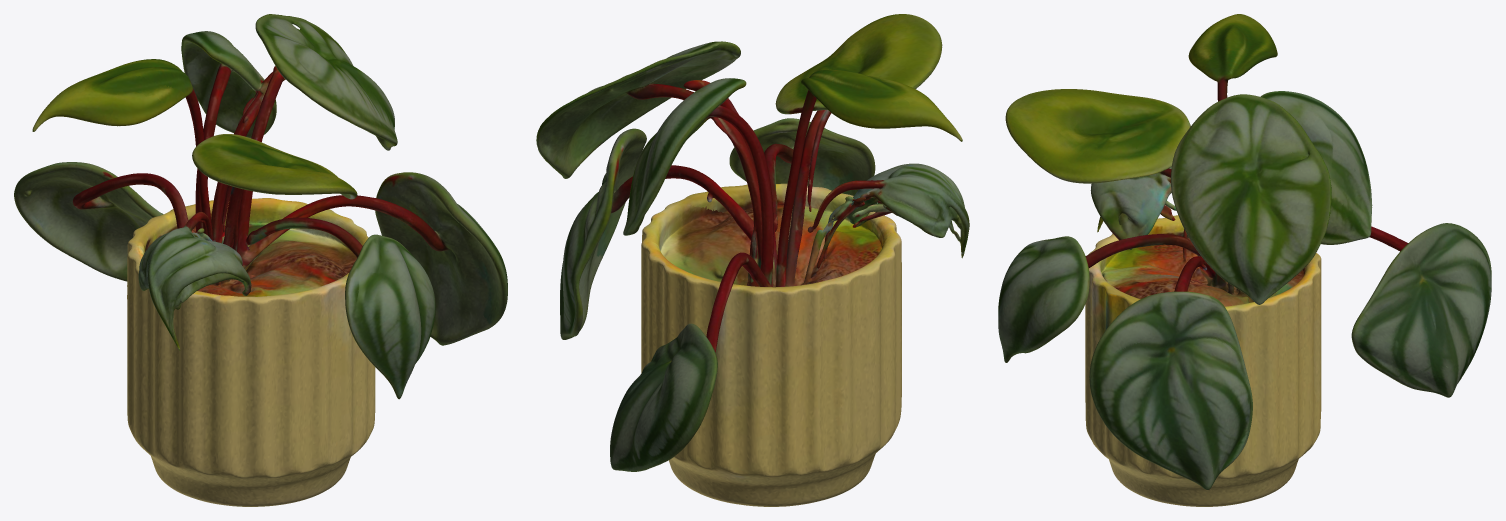
3 renders of one model, left to right at view 1: azimuth 30°, elevation 25°; view 2: azimuth 150°, elevation 25°; view 3: azimuth 270°, elevation 25°, orthographic. The views are drawn at different scales.
Parts seen in each view (by area): view 1: tripo_node_f5bc164e; view 2: tripo_node_f5bc164e; view 3: tripo_node_f5bc164e.
Boxes of the visible parts, x1=… form: tripo_node_f5bc164e: x1=14, y1=14, x2=507, y2=506; tripo_node_f5bc164e: x1=536, y1=14, x2=969, y2=506; tripo_node_f5bc164e: x1=998, y1=14, x2=1491, y2=506.
Bounding box in the file's own units: 0.9057 × 0.8746 × 1.
Materials: 1 (1 with a texture image).
